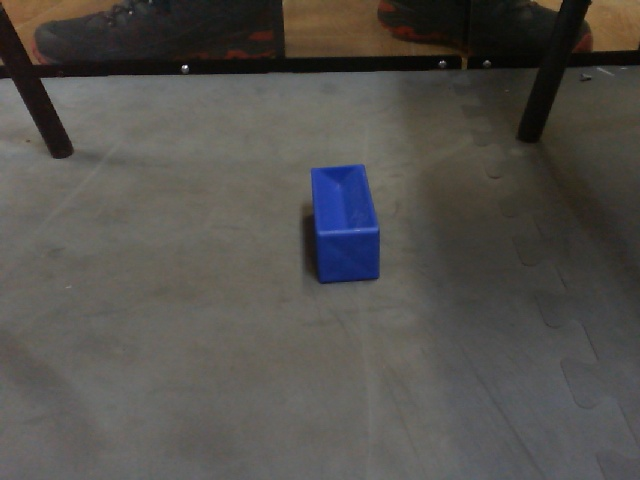BlueSample: (305, 162, 384, 286)
